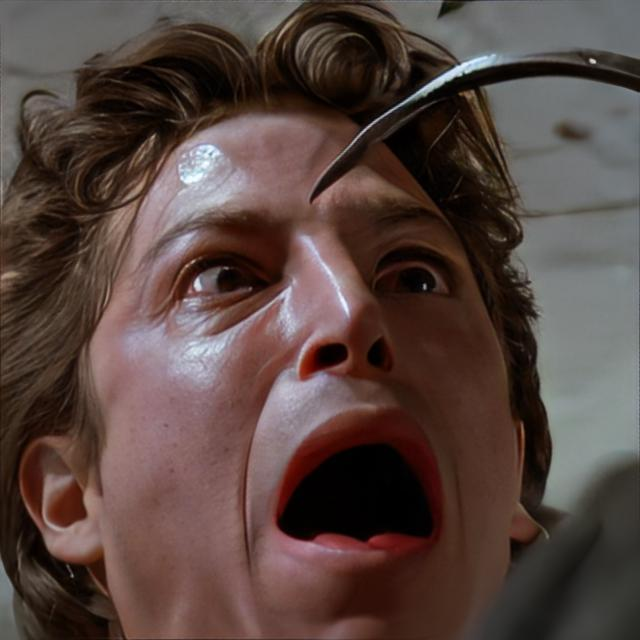fear: (80, 104, 518, 640)
